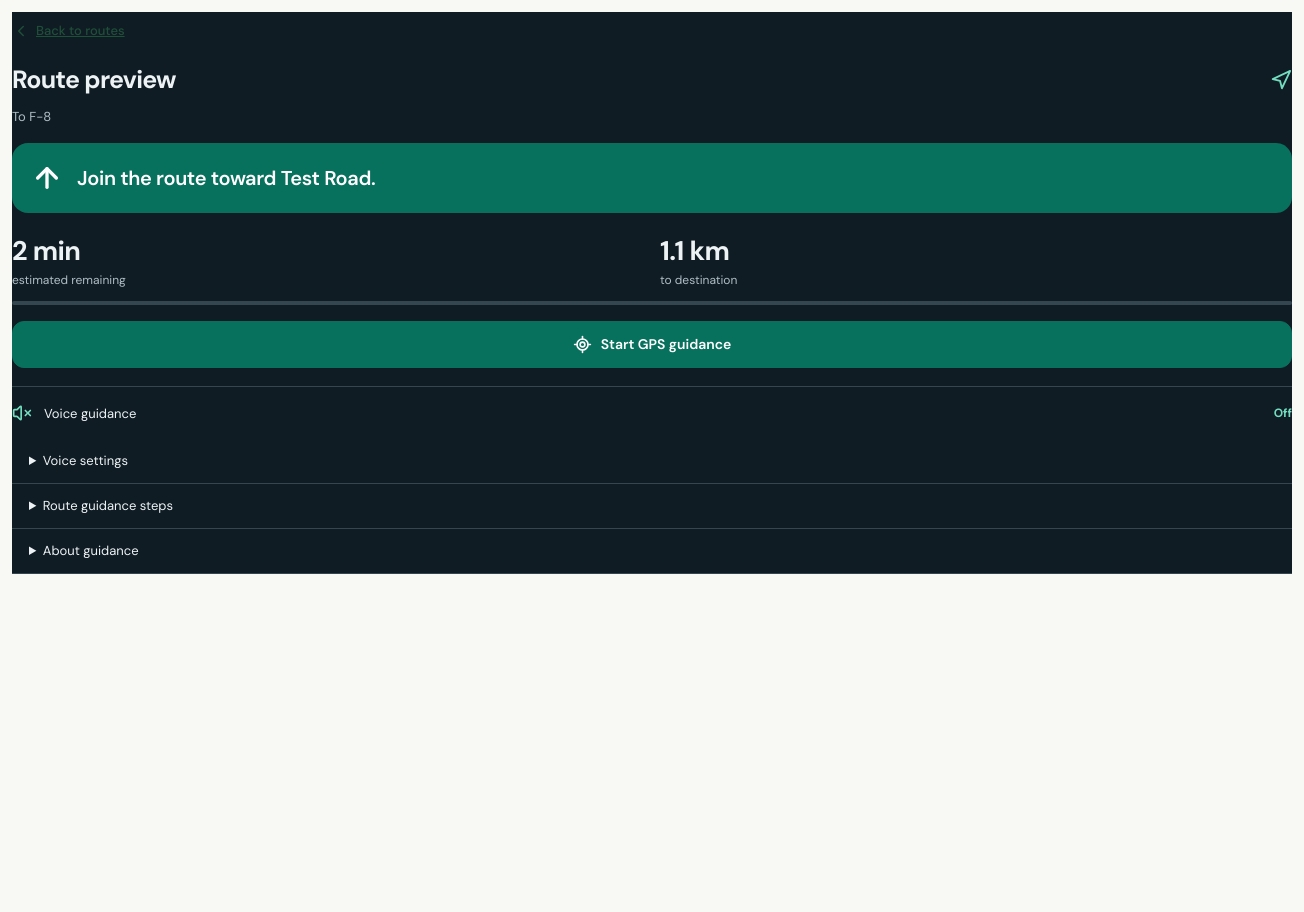
Test: compact navigation controls › keeps directions, voice setup and explanatory copy behind optional disclosures
This screenshot has width=1304, height=912.
Expected: the button "Start GPS guidance" is shown, [12,321,1292,368]
Click the heading "Voice settings" at coordinates (85, 461), box [43,452,128,469]
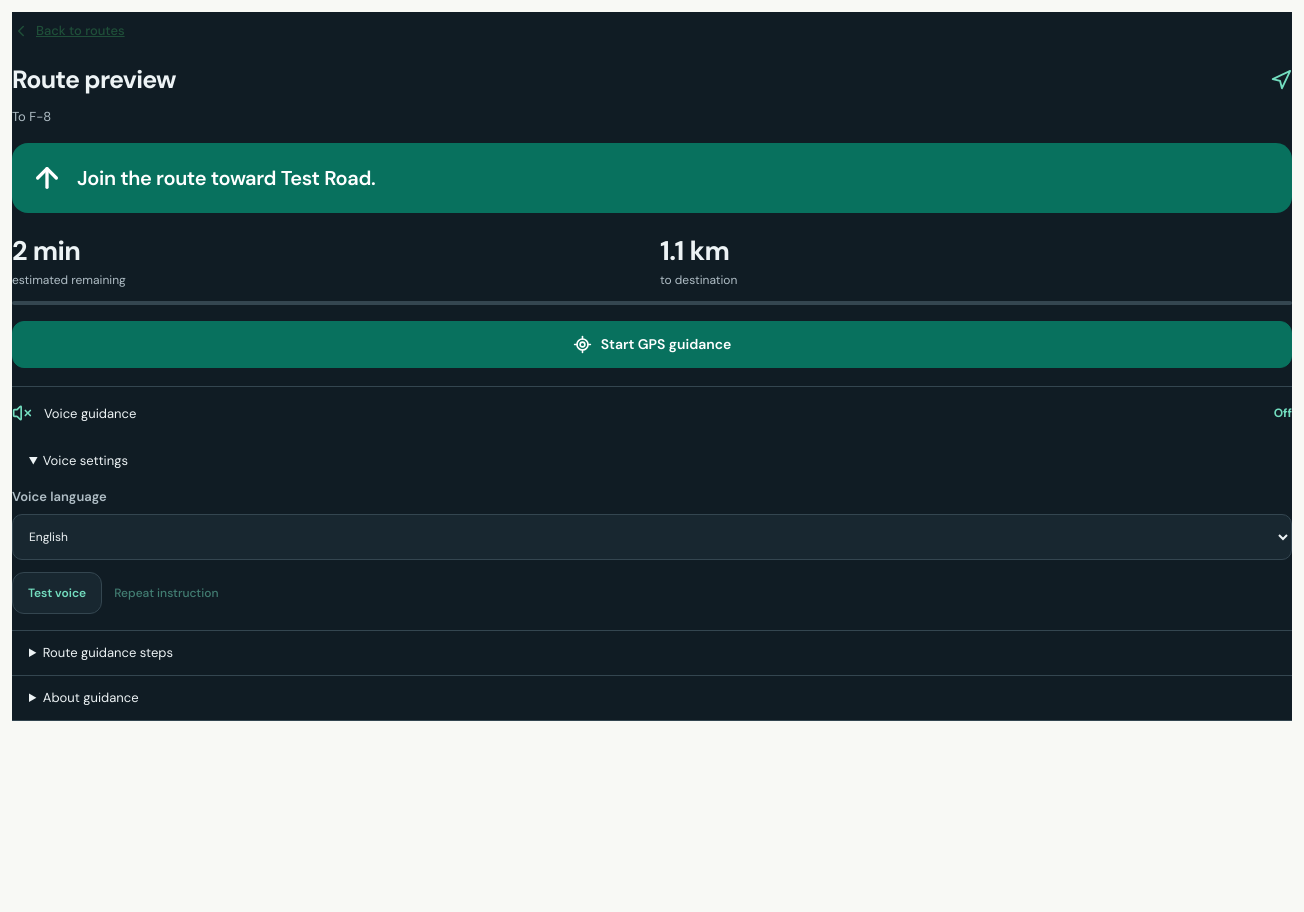
Result: the button "Test voice" is shown at [12,572,102,614]
Result: the dropdown labelled "Voice language" is shown at [12,514,1292,560]
